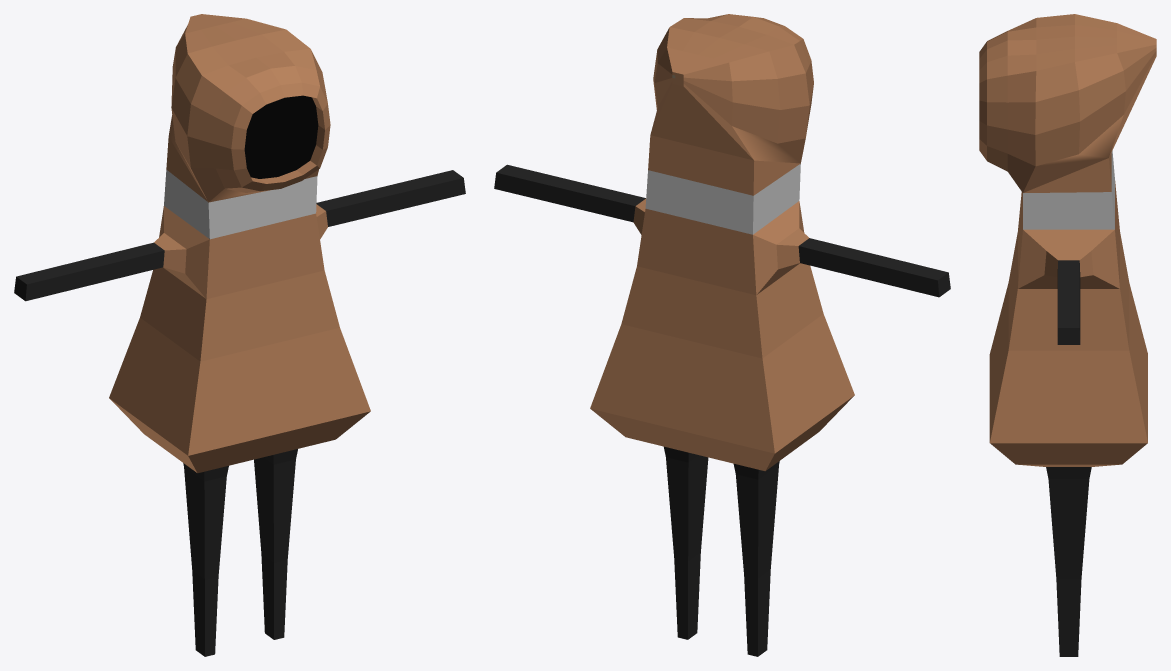
File: newRig_4.fbx
3 views of the same model, side by side, from view 1: azimuth 30°, elevation 25°; view 2: azimuth 150°, elevation 25°; view 3: azimuth 270°, elevation 25° (orthographic).
Parts seen in each view (by area): view 1: Cube_3; view 2: Cube_3; view 3: Cube_3.
Part boxes in pixels (<box>): Cube_3: <box>14,14,465,656</box>; Cube_3: <box>494,14,950,656</box>; Cube_3: <box>979,14,1156,656</box>.
Bounding box in the file's own units: 99.49 × 130 × 34.74.
